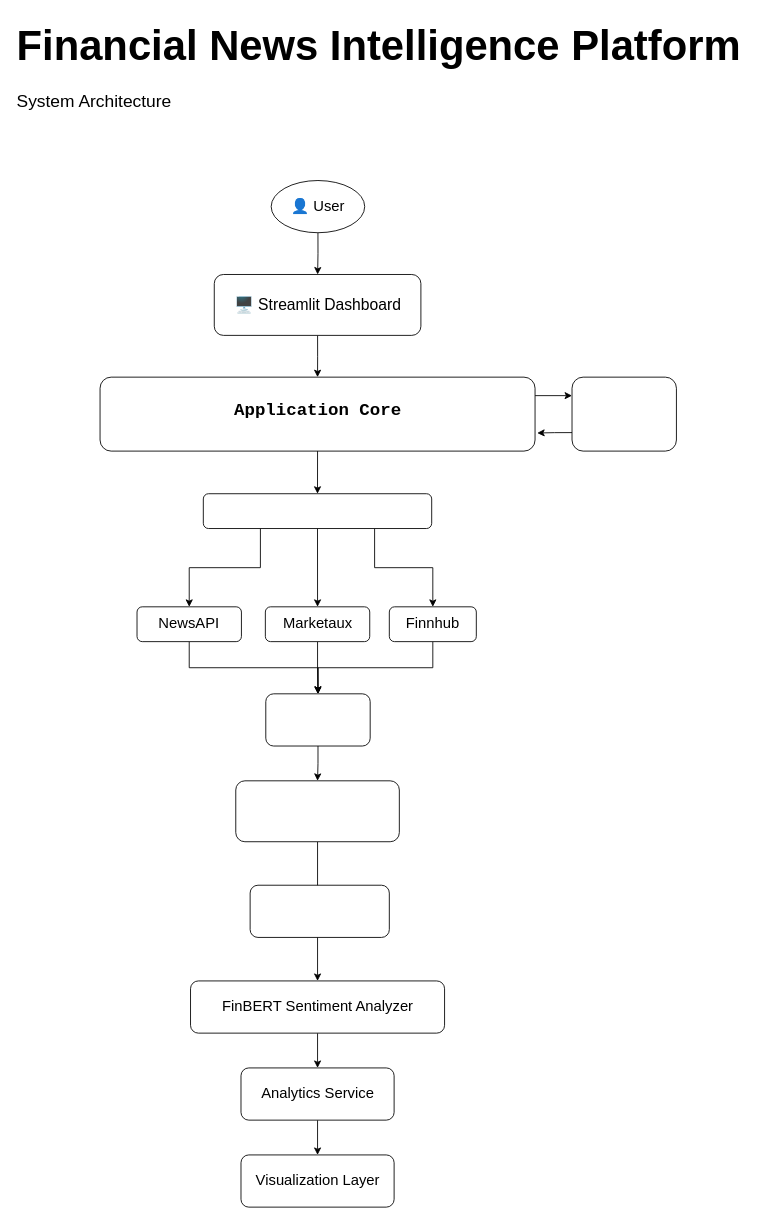
Some shapes in this 768 by 1222 pixel diagram are drawn without their labels. The centre of each missing label's shape, as x and y in pixels:
"Cache Manager" goes at pixel 623 413.
"Deduplicator" goes at pixel 317 719.
"News Aggregator" goes at pixel 317 511.
"Relevance Filter" goes at pixel 319 910.
"Relevance Ranker" goes at pixel 317 811.
